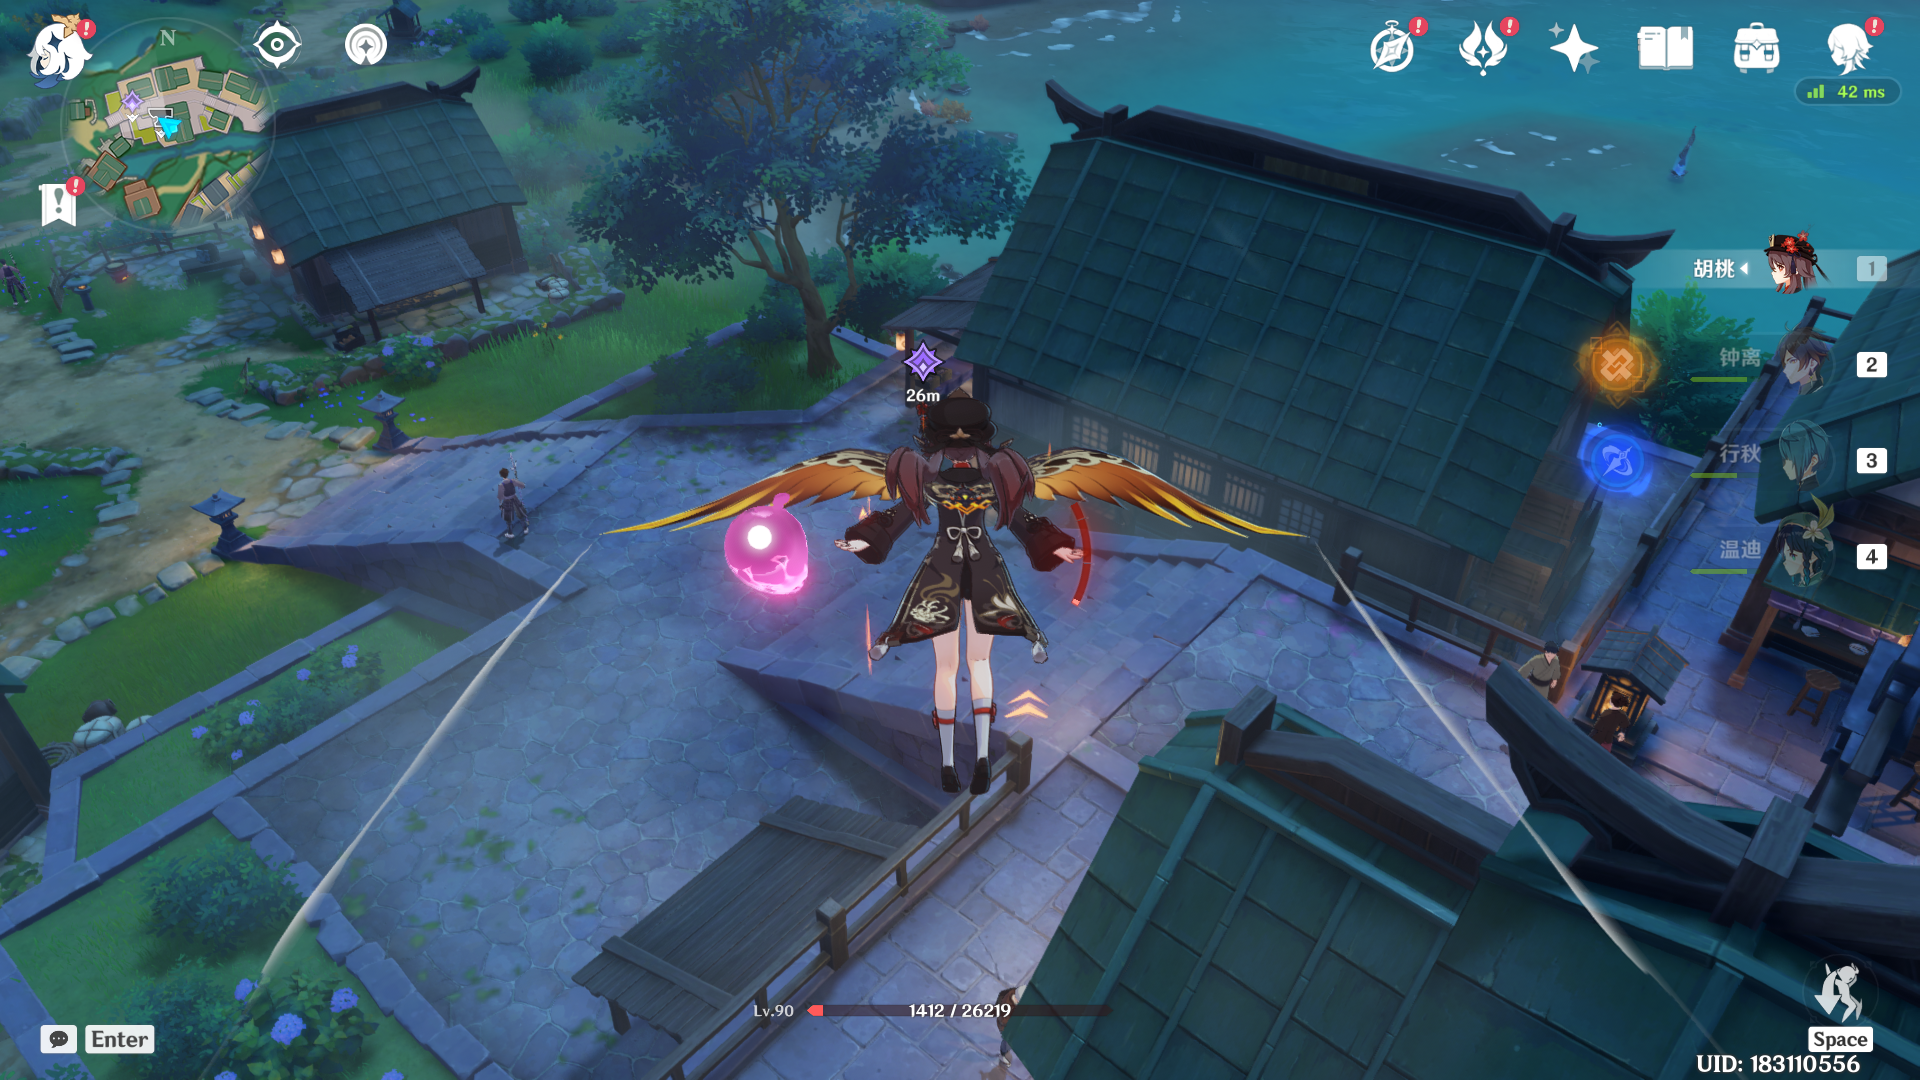character: (823, 378, 1147, 816)
